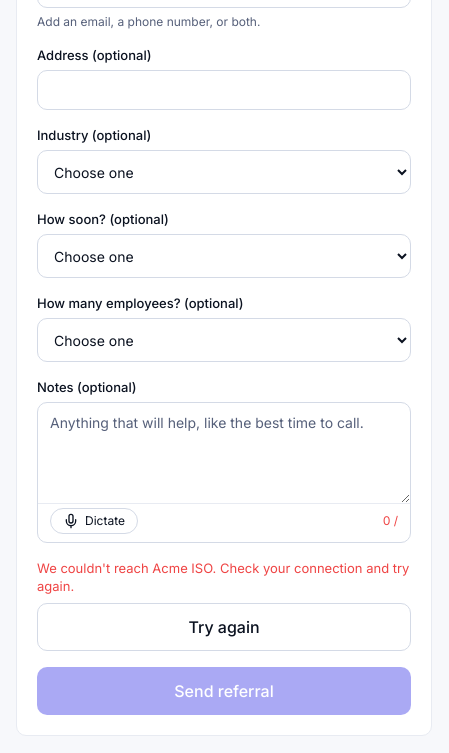
PortalSubmitPage › offers a retry only when the form context never loaded
(page scrolled)
Expected: the button "Send referral" is disabled, [37,667,411,715]
Step 1. Click the button "Try again" → (224, 627), box [37,603,411,651]
(page scrolled)
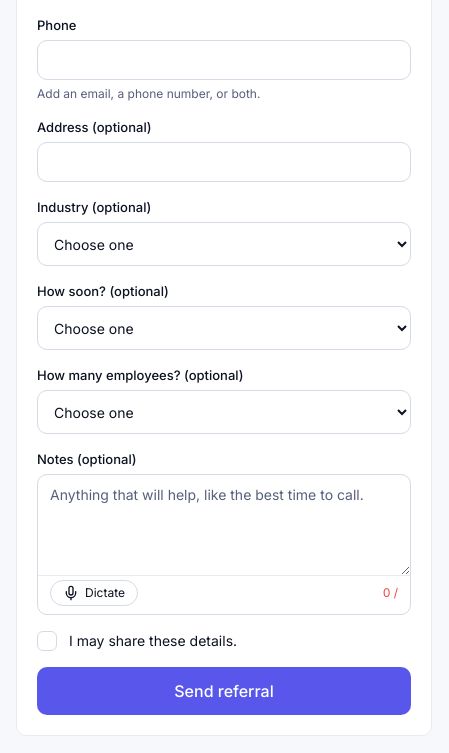
Now the checkbox named "I may share these details." is shown, box [37,631,57,651]
Now the text "try again" is gone
